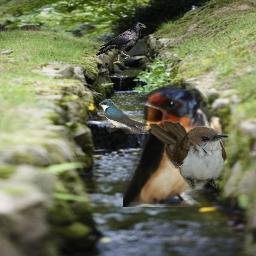Crow: (96, 22, 147, 64)
Cuckoo: (149, 120, 230, 192)
Swallow: (123, 83, 225, 207), (99, 99, 149, 134)
